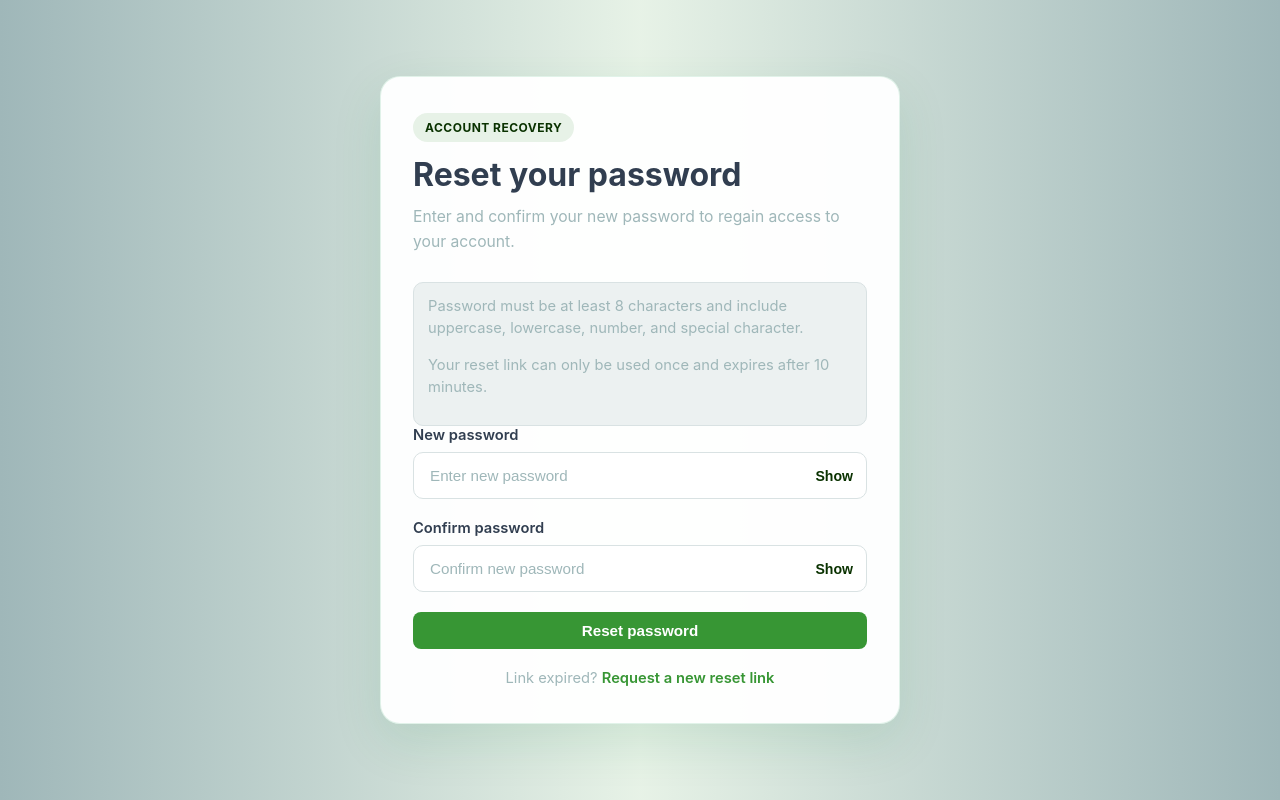
Test: ResetPasswordPage › shows required validation when password fields are empty
The width and height of the screenshot is (1280, 800).
Click the button "Reset password": [640, 631] box [413,612,867,649]
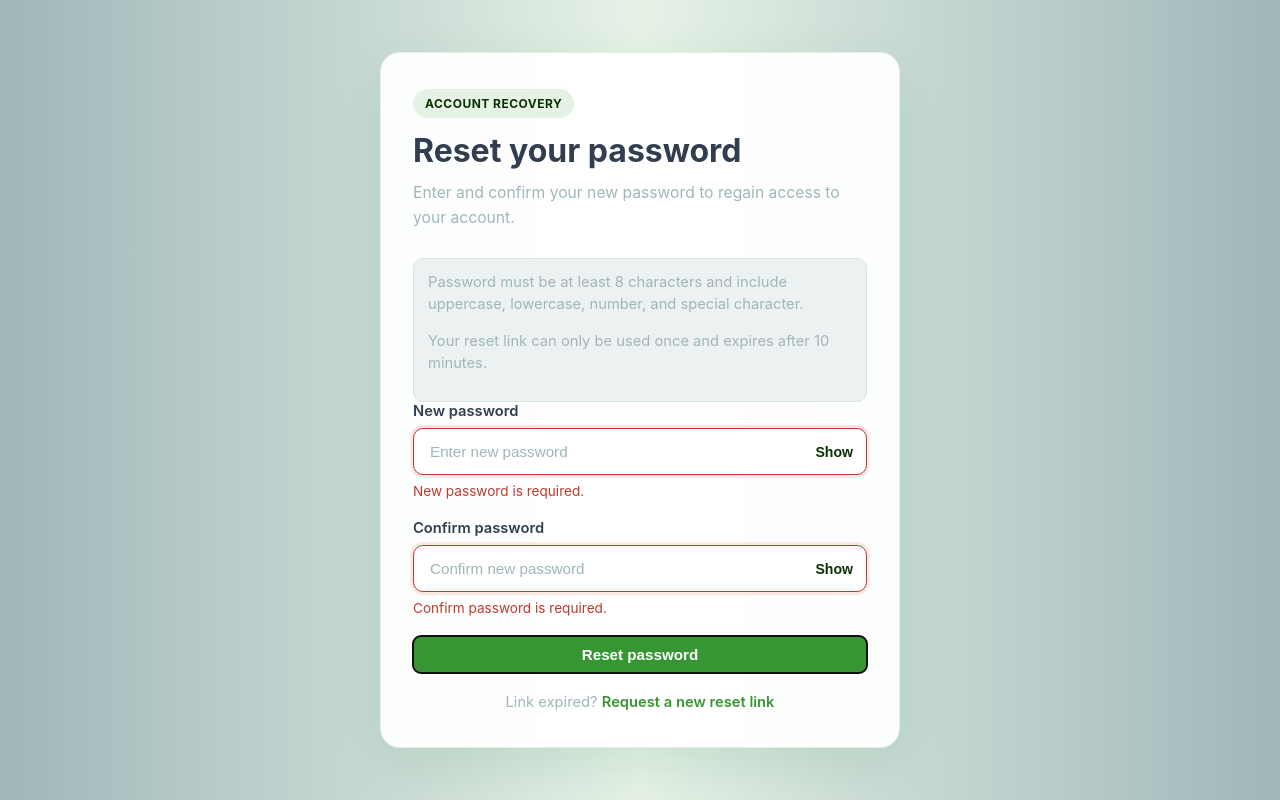
Check: the text "New password is required." is shown, box [413,483,584,499]
Check: the text "Confirm password is required." is shown, box [413,600,607,616]
